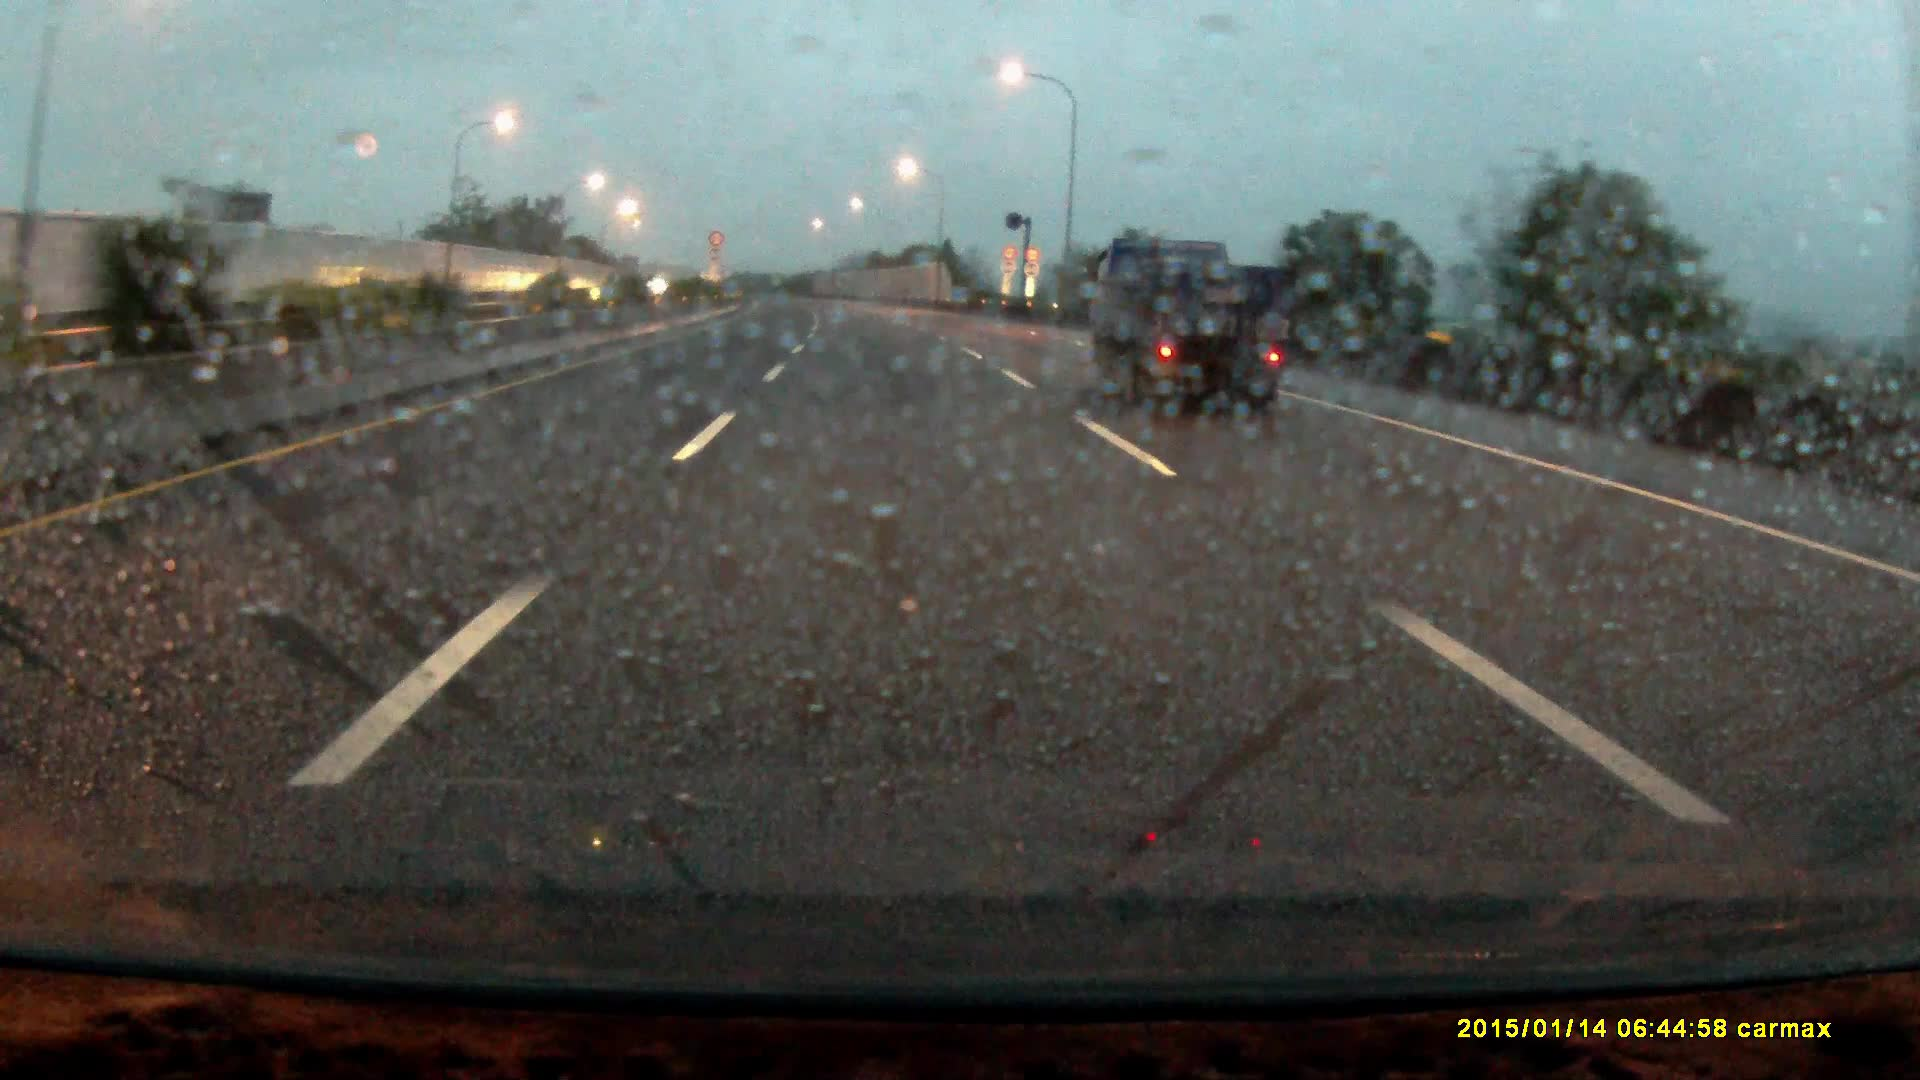vehicle: (1087, 243, 1288, 415)
